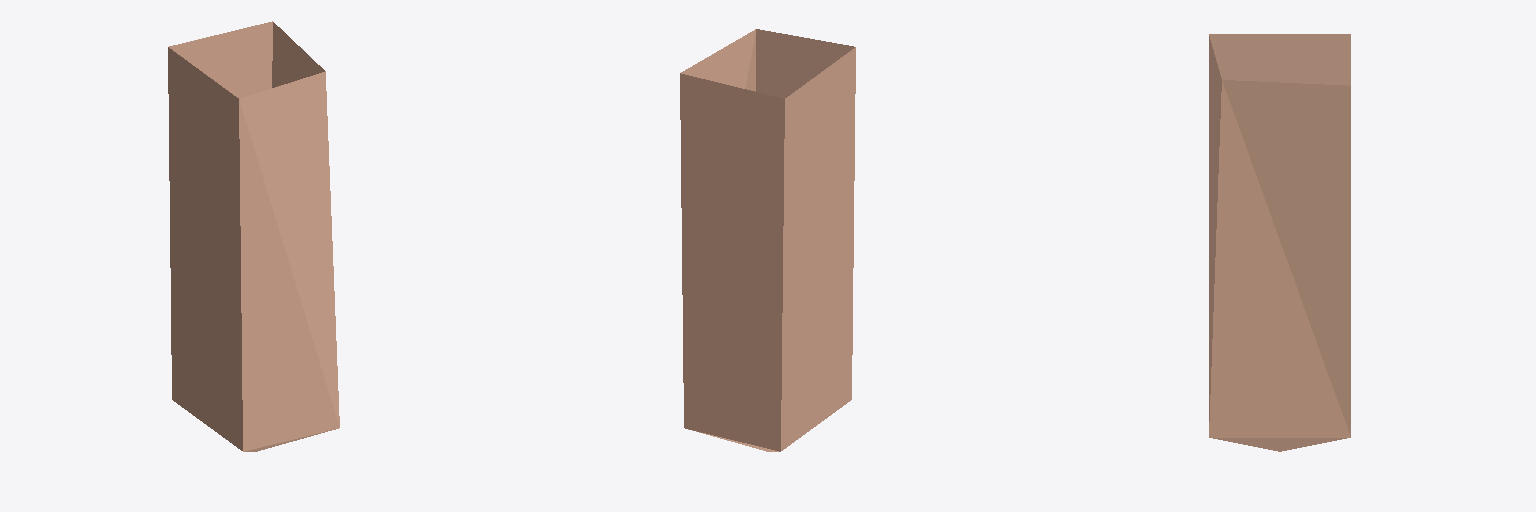
The picture shows the model from 3 angles: view 1: azimuth 30°, elevation 25°; view 2: azimuth 150°, elevation 25°; view 3: azimuth 270°, elevation 25°; orthographic projection.
Visible parts, largest first — view 1: 08_RIGHT_ARM; view 2: 08_RIGHT_ARM; view 3: 08_RIGHT_ARM.
Part boxes in pixels (x1,y1,x2,y2): 08_RIGHT_ARM: (168, 21, 339, 451); 08_RIGHT_ARM: (680, 29, 855, 451); 08_RIGHT_ARM: (1209, 34, 1350, 451).
Size of the model in its own units: 0.058 by 0.2068 by 0.068.
1 materials, 1 textured.